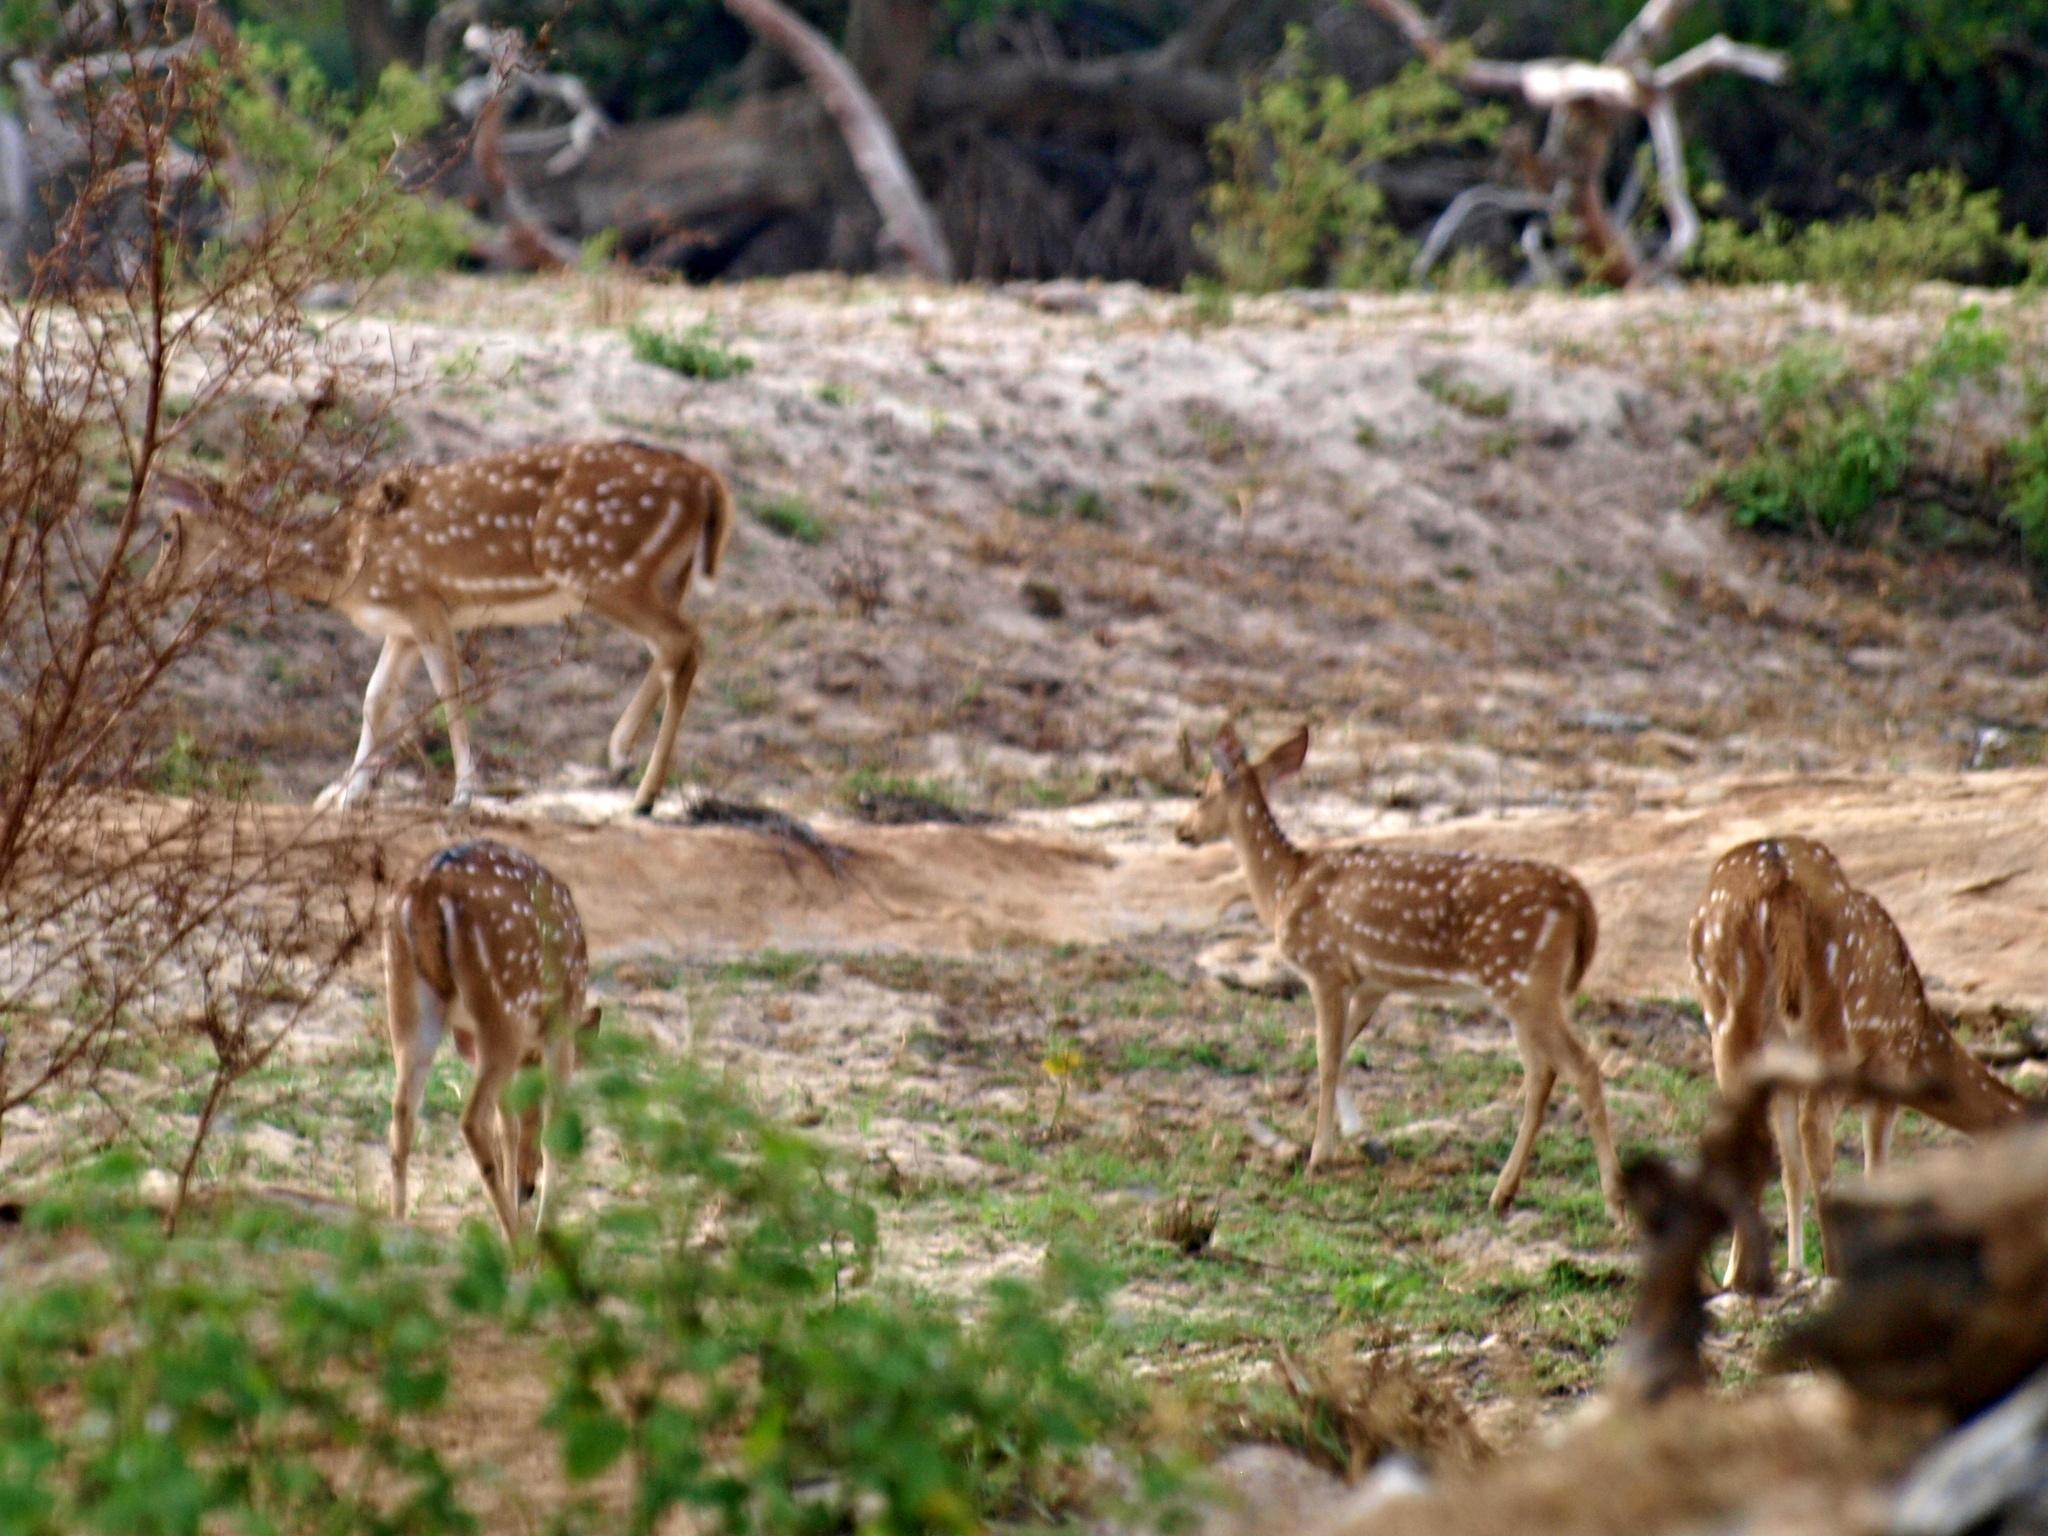Deer: (1176, 720, 1621, 1213), (140, 440, 732, 812), (1688, 836, 2029, 1225), (384, 841, 598, 1241)
